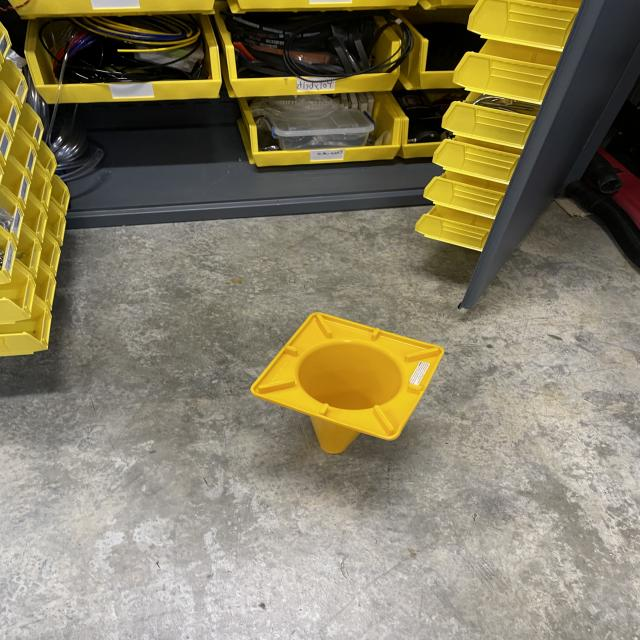frc_cone: (248, 306, 446, 478)
